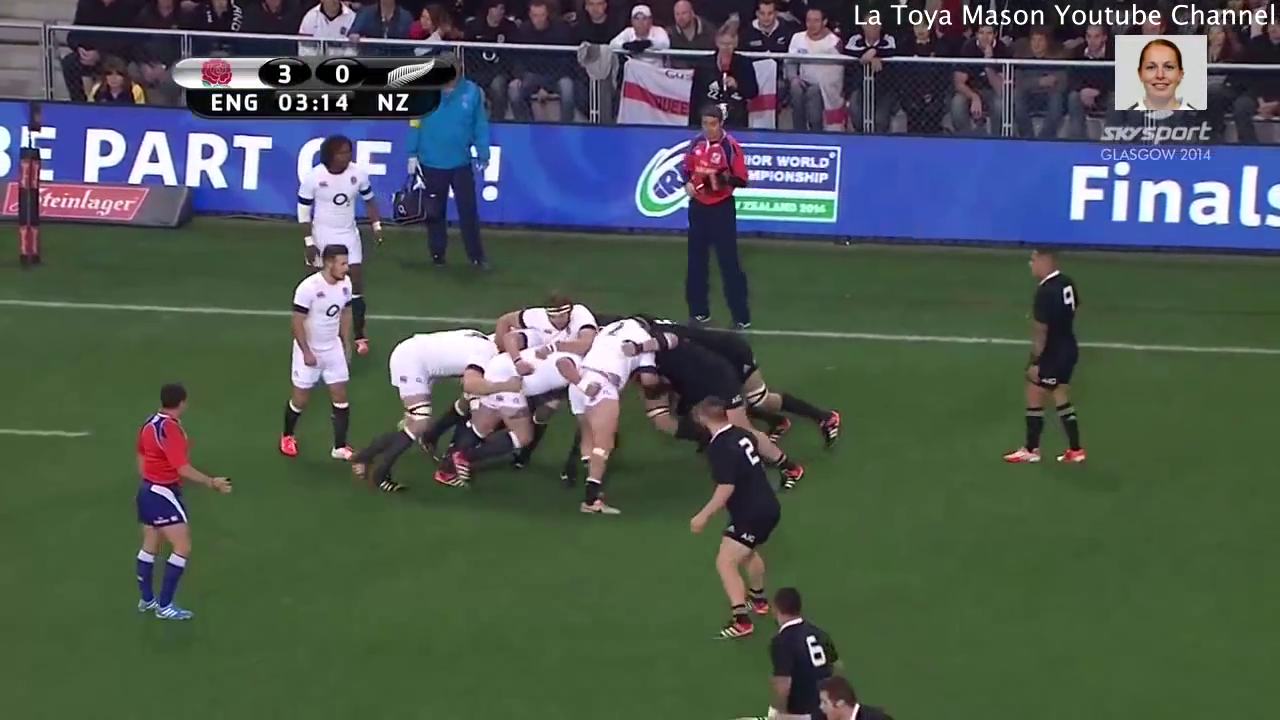maul: (371, 280, 826, 512)
player: (119, 363, 231, 633), (682, 387, 790, 636), (991, 239, 1100, 480), (357, 324, 489, 495), (430, 330, 574, 484), (270, 241, 362, 470), (565, 308, 652, 513), (286, 127, 376, 286), (757, 583, 839, 720), (812, 674, 902, 720)
